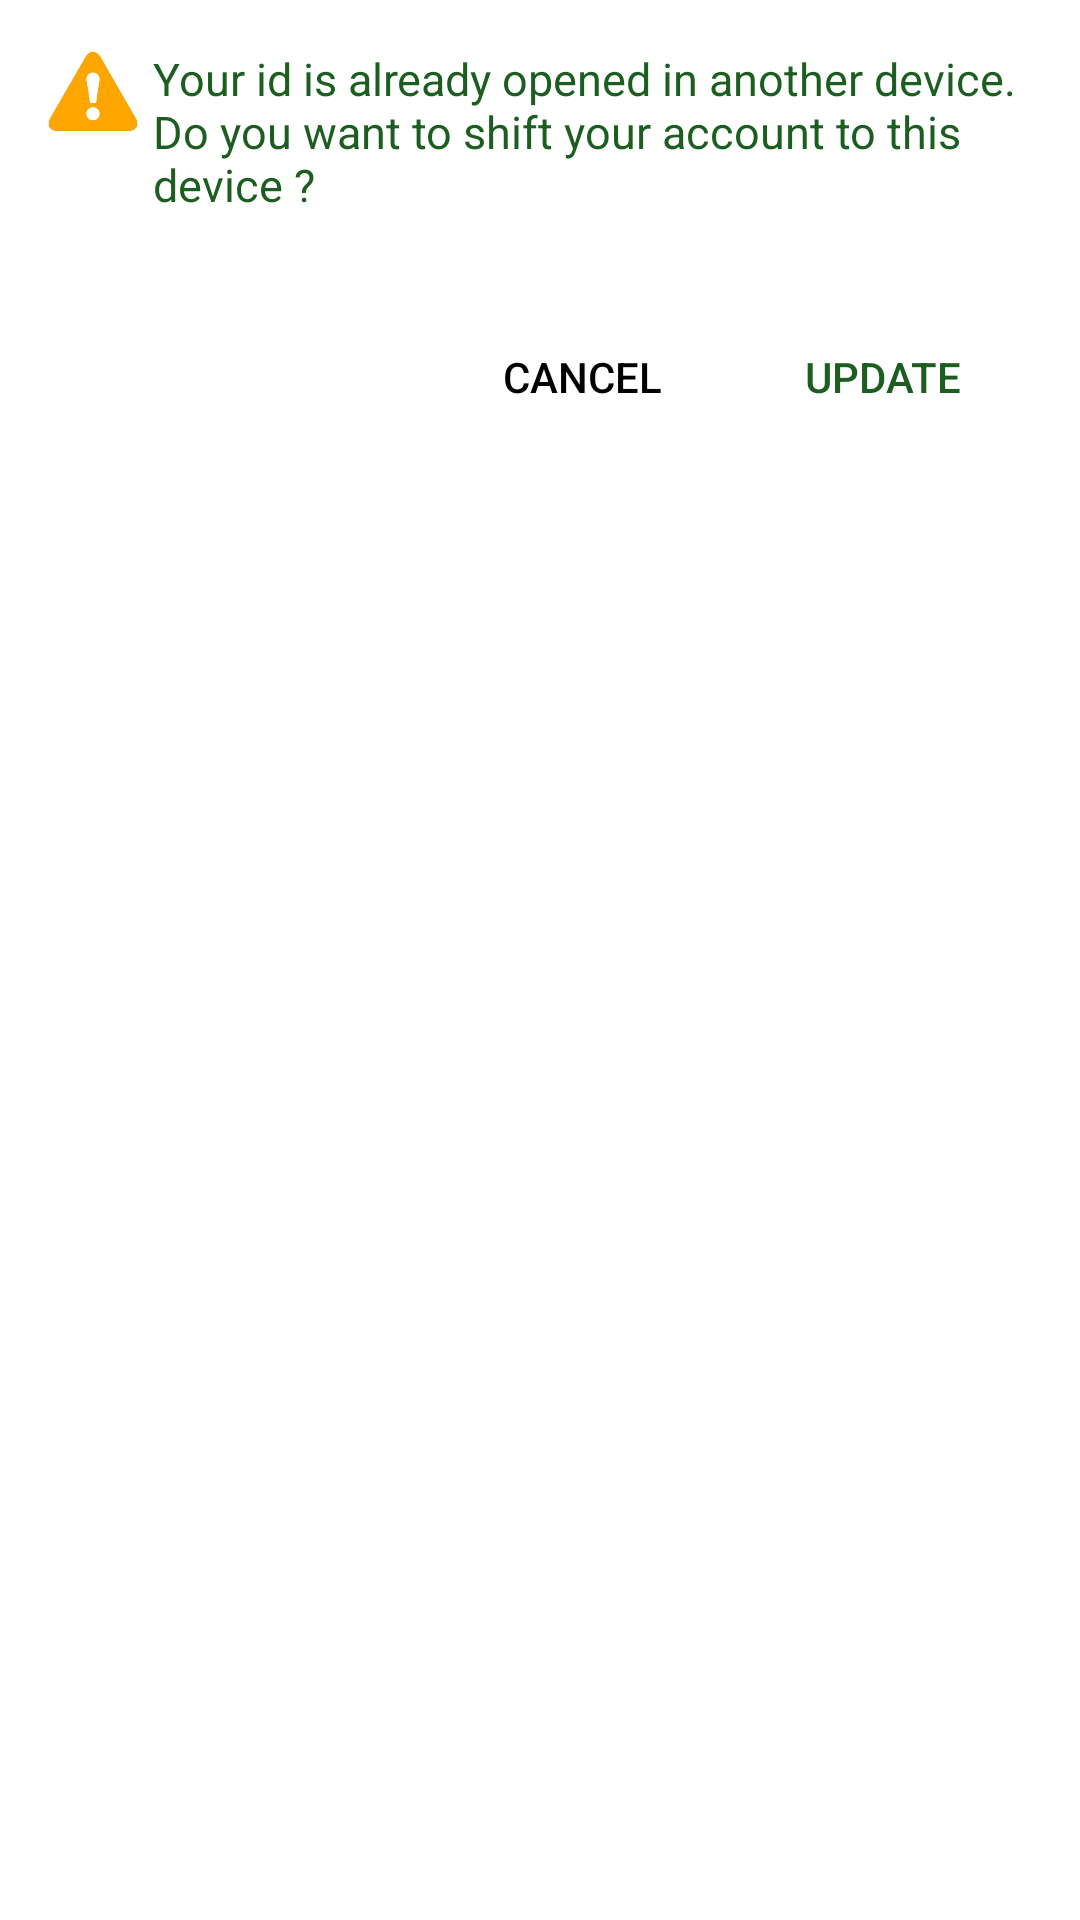

Icons on this 1080*1920 Android screen, each with its box as region(x1, y1, x2, y2):
error: region(48, 51, 138, 132)
